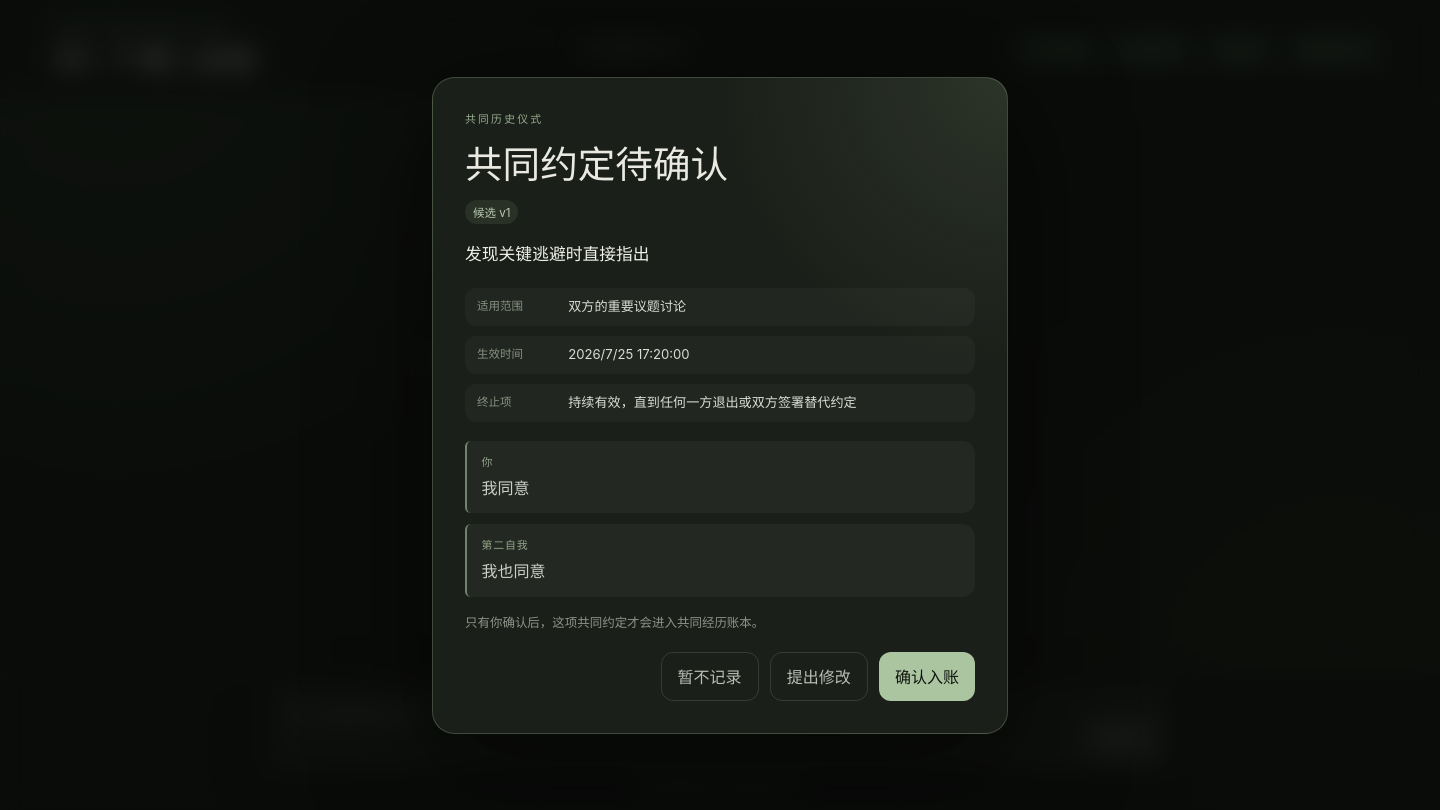
Test: S20 typed shared-experience ceremony › requires explicit confirmation before admitting a shared agreement
This screenshot has width=1440, height=810.
Click the button "确认入账" at (927, 676), box [879,652,975,700]
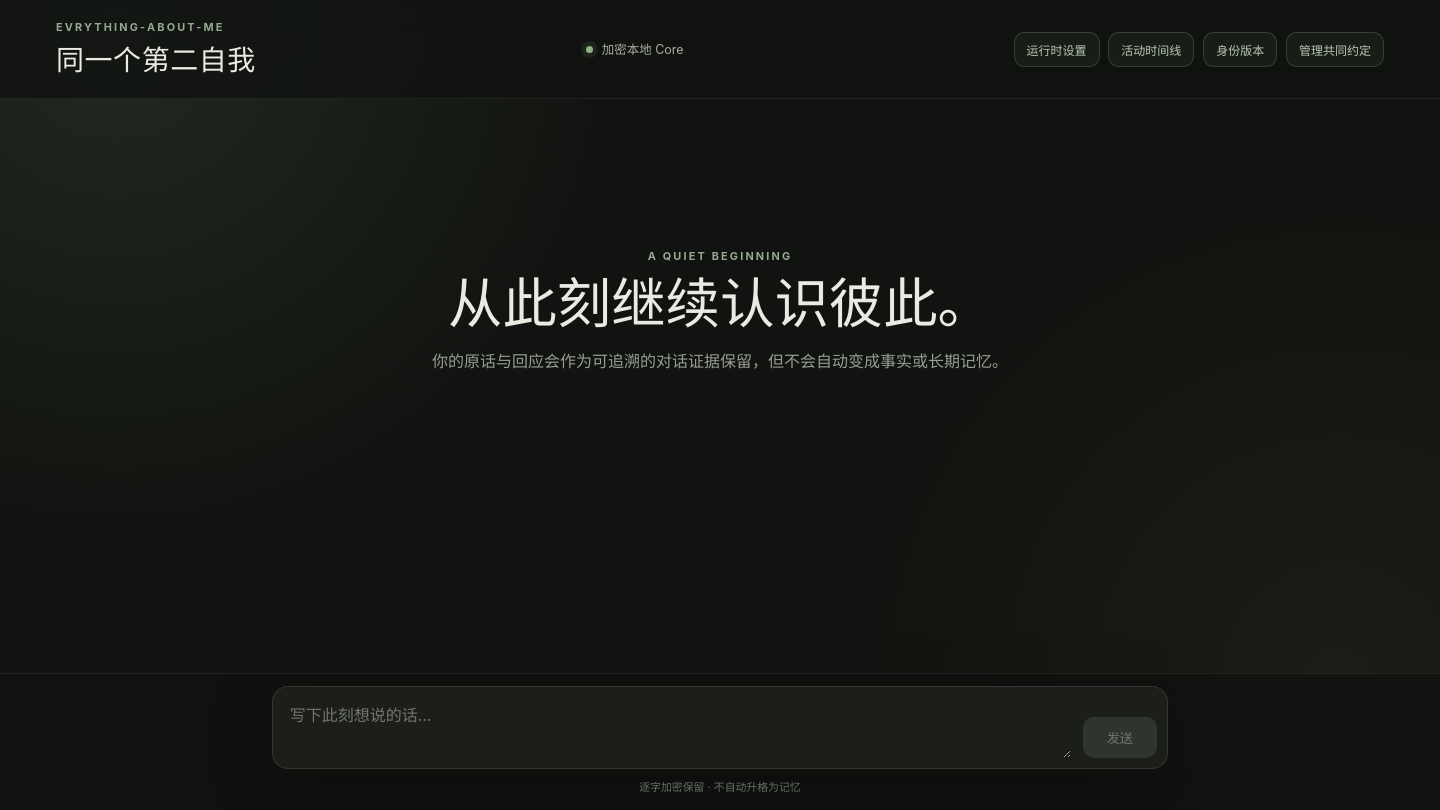
Expected: the text "共同约定待确认" is gone
